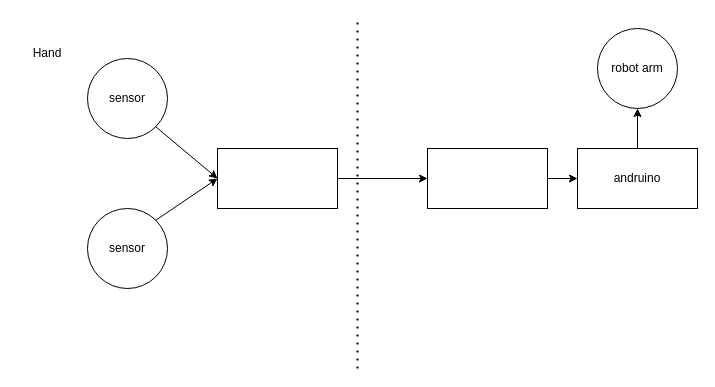
This 715x387 diagram has some shape labels left out. Here are the shapes that lost their labels. From the top down, the centre of each, then its label:
At pixel 277 178: "Esp".
At pixel 487 178: "raspberry".
